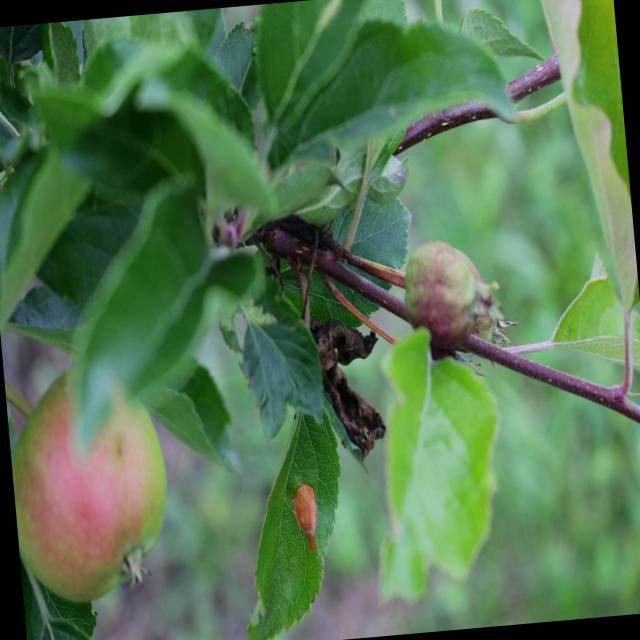-FireBlight-: (287, 303, 399, 448)
